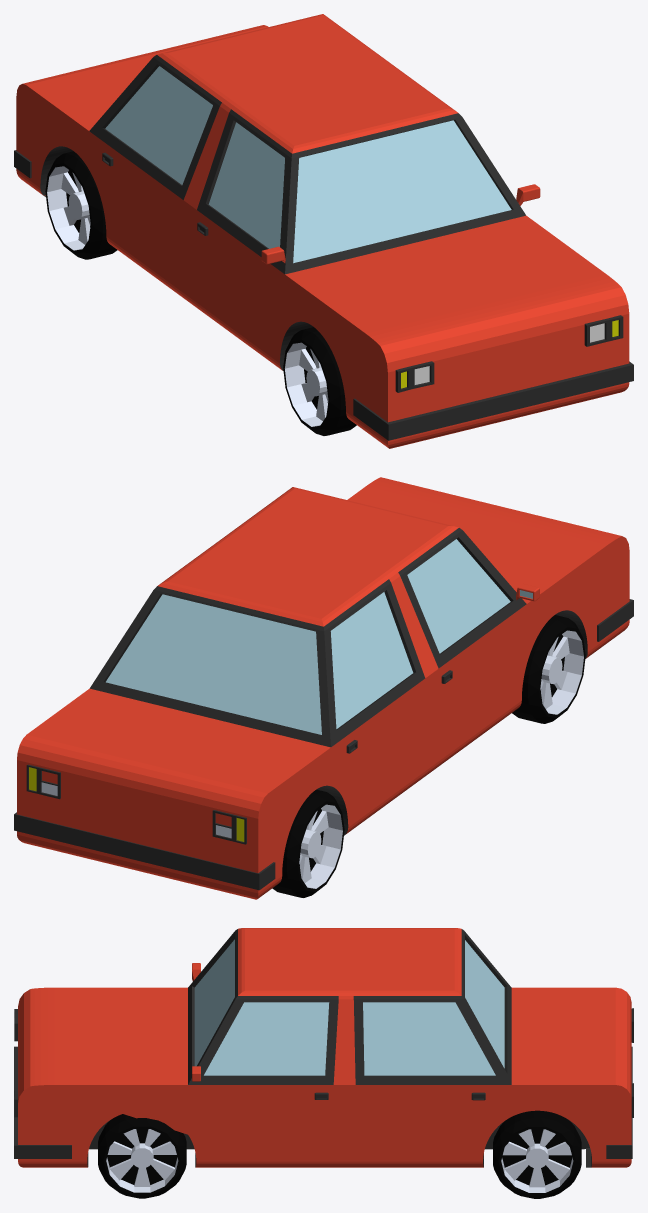
Rendered from Car2.fbx.
3 renders of one model, top to bottom at view 1: azimuth 30°, elevation 25°; view 2: azimuth 150°, elevation 25°; view 3: azimuth 270°, elevation 25°, orthographic. The views are drawn at different scales.
Visible parts, largest first — view 1: Body, FrontRightWheel, RearRightWheel, RightHeadlights, LeftHeadlights; view 2: Body, FrontRightWheel, RearRightWheel, RearLeftLights, RearRightLights; view 3: Body, RearLeftWheel, FrontLeftWheel.
Boxes of the visible parts, x1,y1,x2,y2 form: Body: (14,14,633,448); FrontRightWheel: (283,327,356,435); RearRightWheel: (45,151,117,259); RightHeadlights: (395,361,434,392); LeftHeadlights: (584,315,623,346); Body: (14,477,633,899); FrontRightWheel: (512,615,585,723); RearRightWheel: (272,789,344,897); RearLeftLights: (26,764,60,799); RearRightLights: (212,810,246,844); Body: (14,928,632,1167); RearLeftWheel: (493,1110,581,1198); FrontLeftWheel: (98,1114,186,1198).
Bounding box in the file's own units: 269 × 216 × 638.
